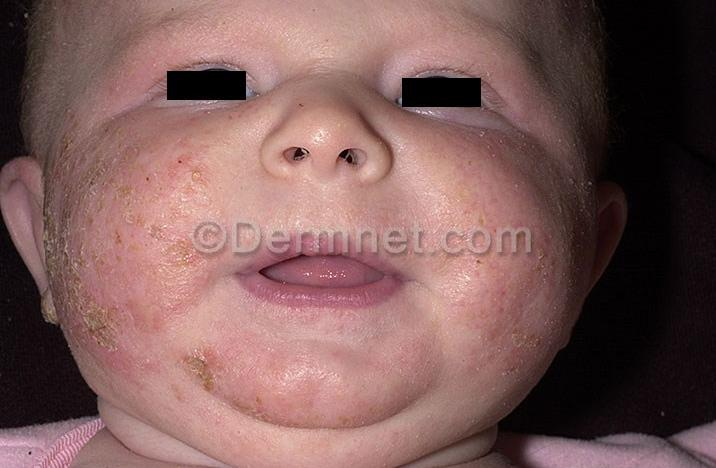Eritema 2: (48, 142, 194, 370)
eritema 1: (452, 153, 596, 366)
exudacion 1: (452, 163, 587, 376)
exudacion 3: (37, 130, 228, 388)
